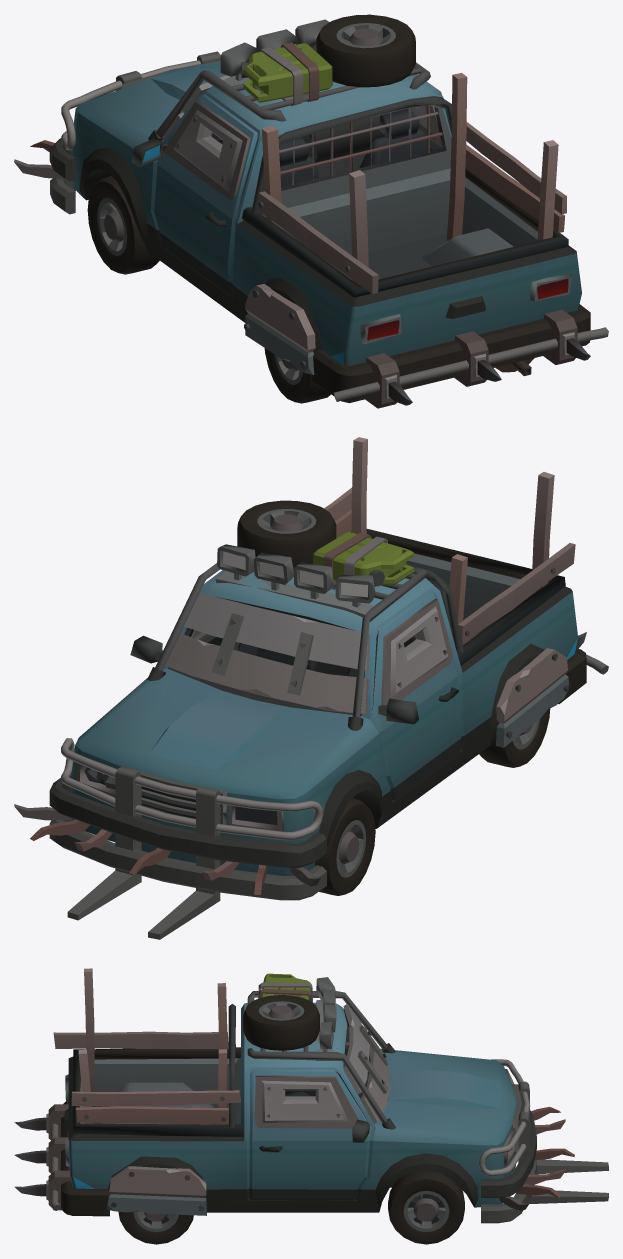
The model's file is car_nomad.glb.
The picture shows the model from 3 angles, top to bottom: view 1: azimuth 30°, elevation 25°; view 2: azimuth 150°, elevation 25°; view 3: azimuth 270°, elevation 25°; orthographic projection. The views are drawn at different scales.
Parts seen in each view (by area): view 1: body_mesh, armor_3_mesh, armor_2_mesh, wheel_FL_mesh, armor_1_mesh, wheel_RL_mesh; view 2: body_mesh, armor_3_mesh, armor_2_mesh, armor_1_mesh, wheel_FL_mesh, wheel_RL_mesh; view 3: body_mesh, armor_3_mesh, armor_2_mesh, wheel_FR_mesh, armor_1_mesh, wheel_RR_mesh.
Boxes of the visible parts, left/top/right/bottom form: body_mesh: left=14, top=14, right=590, bottom=402; armor_3_mesh: left=241, top=14, right=566, bottom=294; armor_2_mesh: left=61, top=51, right=608, bottom=408; wheel_FL_mesh: left=87, top=176, right=159, bottom=274; armor_1_mesh: left=244, top=284, right=315, bottom=374; wheel_RL_mesh: left=264, top=348, right=330, bottom=403; body_mesh: left=14, top=529, right=586, bottom=900; armor_3_mesh: left=237, top=437, right=575, bottom=644; armor_2_mesh: left=61, top=632, right=608, bottom=939; armor_1_mesh: left=496, top=648, right=569, bottom=747; wheel_FL_mesh: left=317, top=798, right=375, bottom=895; wheel_RL_mesh: left=479, top=708, right=550, bottom=767; body_mesh: left=61, top=977, right=574, bottom=1223; armor_3_mesh: left=53, top=968, right=319, bottom=1124; armor_2_mesh: left=14, top=1059, right=608, bottom=1210; wheel_FR_mesh: left=388, top=1170, right=464, bottom=1244; armor_1_mesh: left=107, top=1166, right=206, bottom=1215; wheel_RR_mesh: left=118, top=1211, right=193, bottom=1244.
Bounding box in the file's own units: 2.33 × 1.94 × 5.07.
2 materials, 1 textured.
